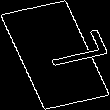L_W: (13, 32, 97, 78)
